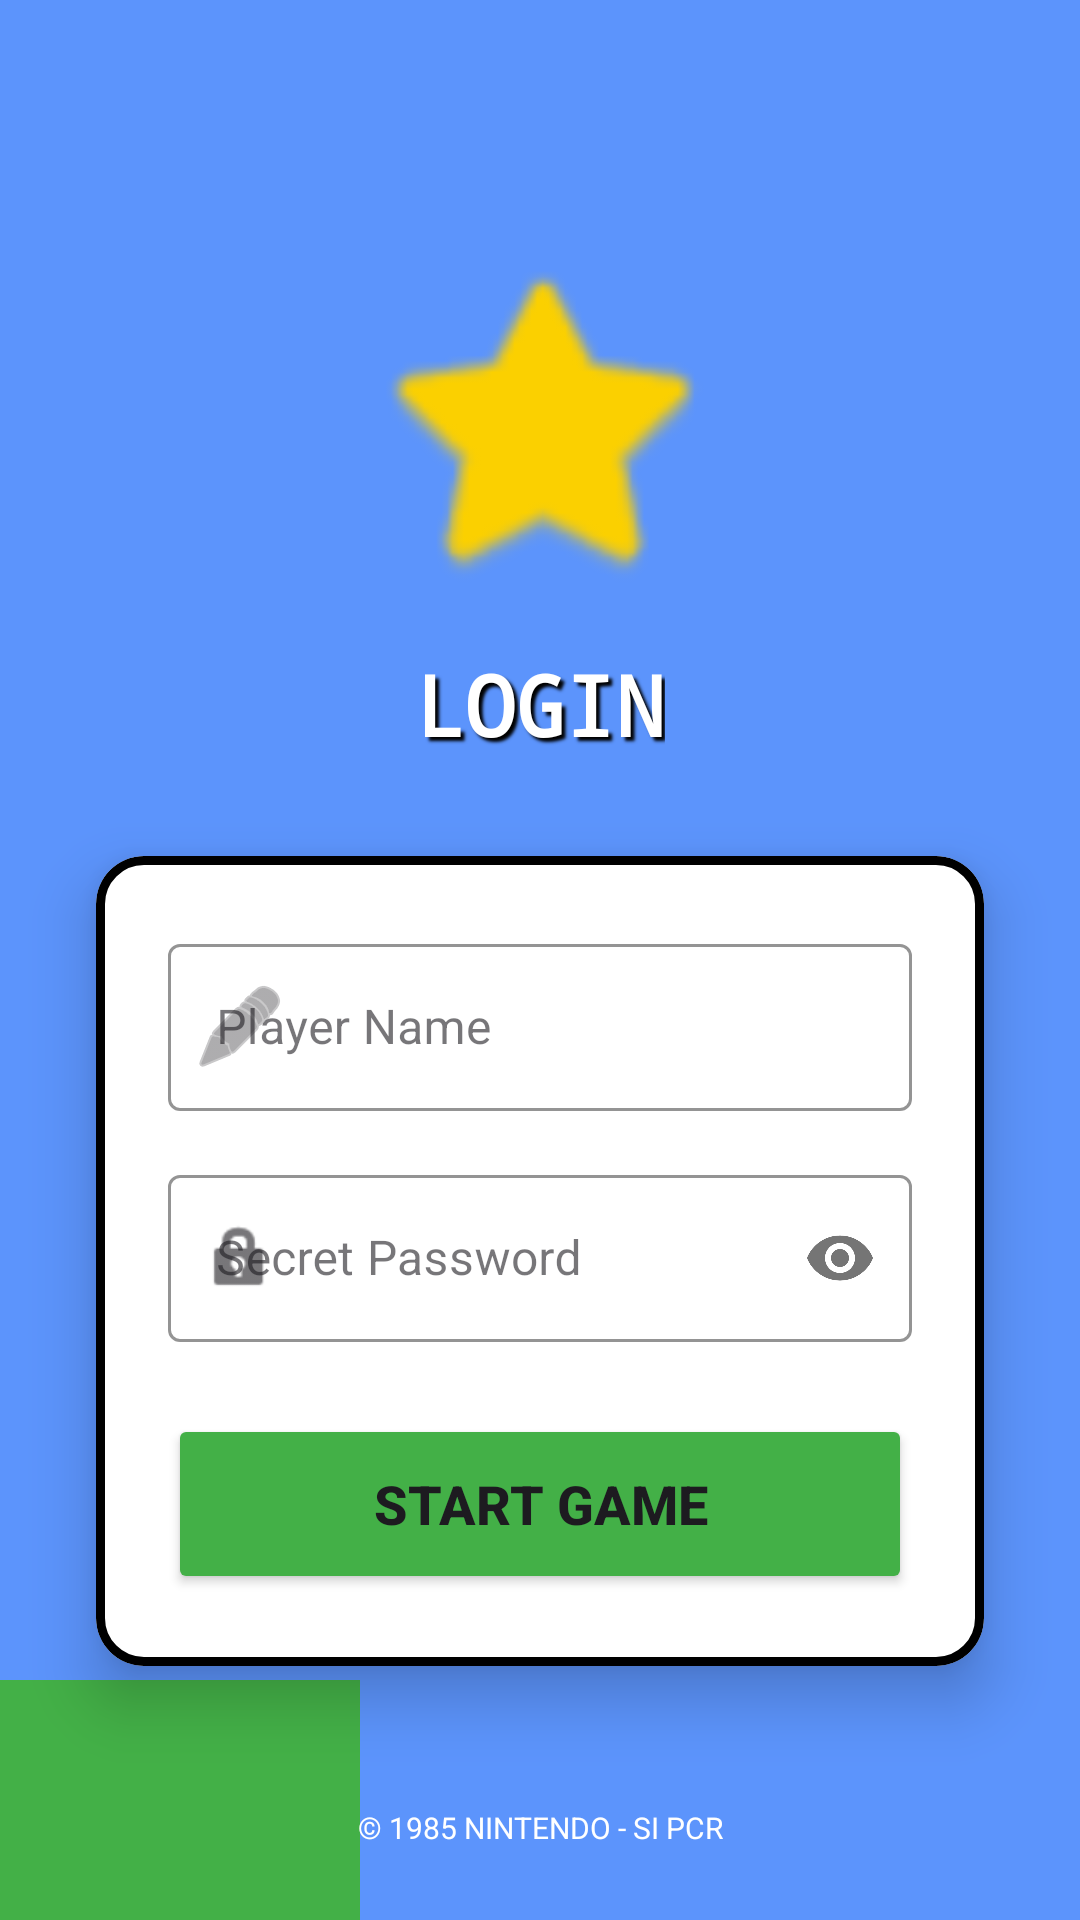

Icons on this 1080×1920 Android screen, each with the point to tap as (x,y):
star on: (543,422)
